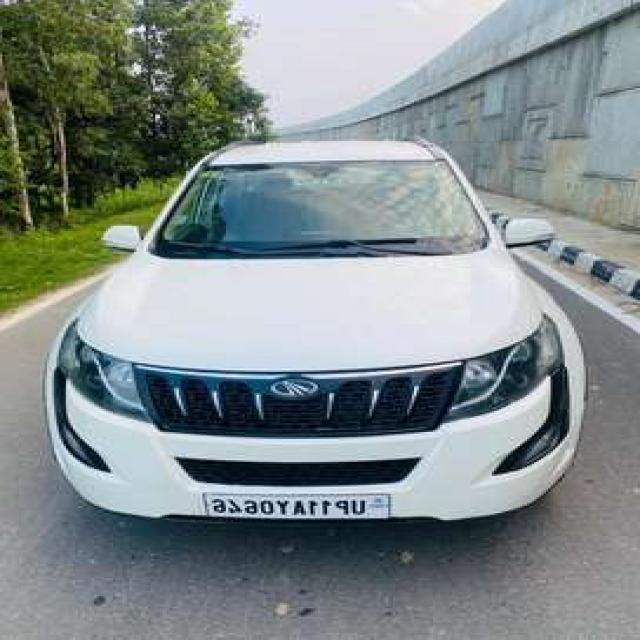license_plate: (200, 486, 398, 526)
